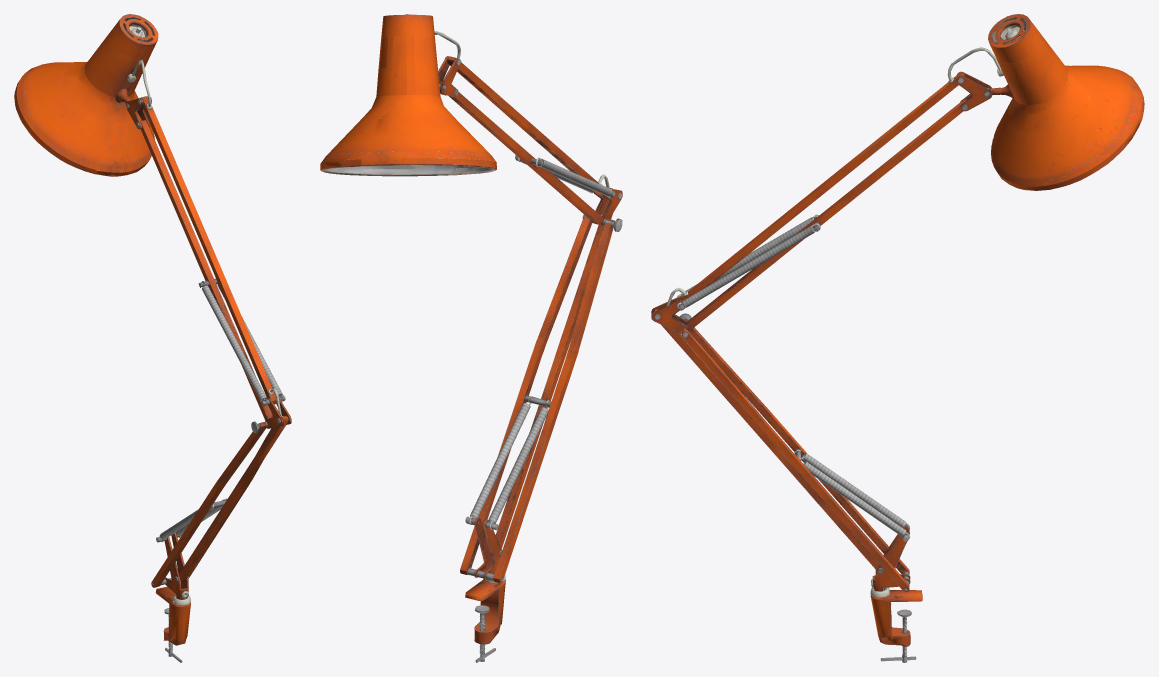
The model's file is desk_lamp_arm_01.glb.
3 views of the same model, side by side, from view 1: azimuth 30°, elevation 25°; view 2: azimuth 150°, elevation 25°; view 3: azimuth 270°, elevation 25° (orthographic). The views are drawn at different scales.
Parts seen in each view (by area): view 1: desk_lamp_arm_01; view 2: desk_lamp_arm_01; view 3: desk_lamp_arm_01.
Boxes of the visible parts, bbox=[...] form: desk_lamp_arm_01: bbox=[14, 14, 291, 662]; desk_lamp_arm_01: bbox=[320, 14, 622, 662]; desk_lamp_arm_01: bbox=[651, 14, 1144, 662].
Bounding box in the file's own units: 0.2022 × 0.8927 × 0.614.
Materials: 2 (2 with a texture image).
